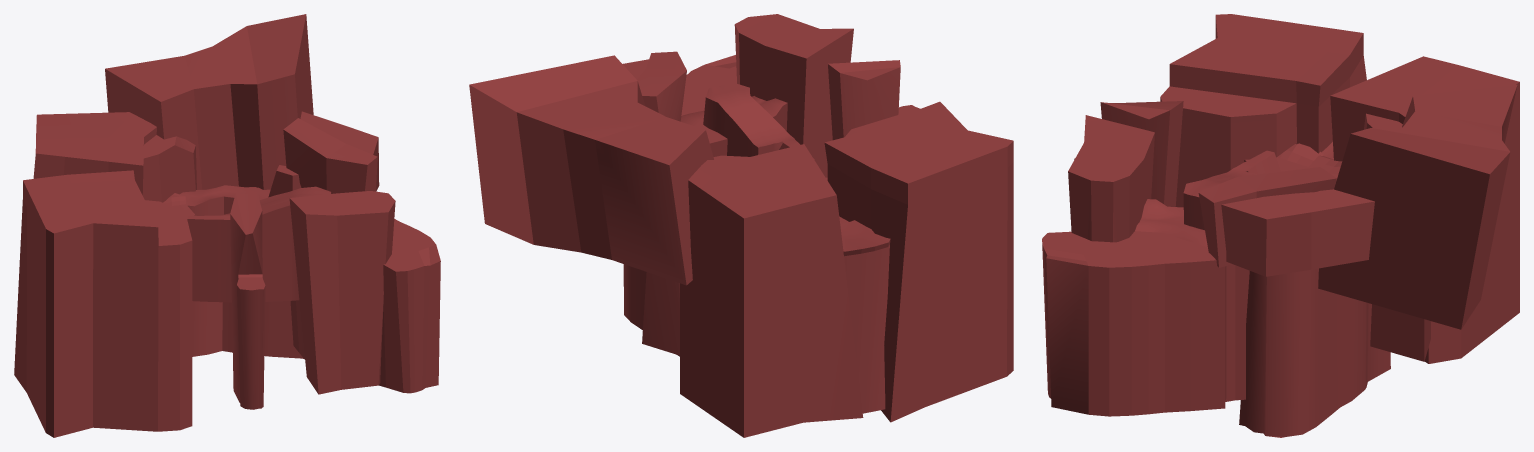
File: Zone3Final 2.FBX
3 views of the same model, side by side, from view 1: azimuth 30°, elevation 25°; view 2: azimuth 150°, elevation 25°; view 3: azimuth 270°, elevation 25° (orthographic). The views are drawn at different scales.
Visible parts, largest first — view 1: New_Game_Object__4_, New_Game_Object_4, New_Game_Object_7, New_Game_Object_2, Cube, New_Game_Object__3__1, New_Game_Object__3_, New_Game_Object_3, New_Game_Object_5, New_Game_Object__5_, New_Game_Object, New_Game_Object_6 (+1 smaller); view 2: New_Game_Object__3__1, New_Game_Object__4_, New_Game_Object_4, New_Game_Object_7, Box001, New_Game_Object__3_, Cube, New_Game_Object__5_, New_Game_Object_5, New_Game_Object_2, New_Game_Object_1, New_Game_Object_3; view 3: New_Game_Object_2, New_Game_Object_4, New_Game_Object__4_, New_Game_Object_3, New_Game_Object__3__1, New_Game_Object, New_Game_Object_7, New_Game_Object_1, New_Game_Object_5, New_Game_Object__3_, New_Game_Object__5_, Cube (+1 smaller).
Boxes of the visible parts, <box> form: New_Game_Object__4_: <box>14,170,192,437</box>; New_Game_Object_4: <box>105,14,313,189</box>; New_Game_Object_7: <box>289,191,395,394</box>; New_Game_Object_2: <box>379,219,440,393</box>; Cube: <box>187,186,331,302</box>; New_Game_Object__3__1: <box>33,112,156,194</box>; New_Game_Object__3_: <box>230,193,265,409</box>; New_Game_Object_3: <box>180,185,303,358</box>; New_Game_Object_5: <box>283,118,377,193</box>; New_Game_Object__5_: <box>142,135,196,202</box>; New_Game_Object: <box>300,111,379,191</box>; New_Game_Object_6: <box>268,165,301,197</box>; New_Game_Object__3__1: <box>680,144,863,437</box>; New_Game_Object__4_: <box>824,101,1013,422</box>; New_Game_Object_4: <box>469,55,713,285</box>; New_Game_Object_7: <box>734,14,853,177</box>; Box001: <box>839,216,890,413</box>; New_Game_Object__3_: <box>828,60,920,140</box>; Cube: <box>703,82,814,160</box>; New_Game_Object__5_: <box>642,155,748,355</box>; New_Game_Object_5: <box>636,51,686,121</box>; New_Game_Object_2: <box>681,55,736,115</box>; New_Game_Object_1: <box>680,96,787,156</box>; New_Game_Object_3: <box>623,264,679,356</box>; New_Game_Object_2: <box>1042,231,1226,416</box>; New_Game_Object_4: <box>1318,85,1517,329</box>; New_Game_Object__4_: <box>1160,14,1366,207</box>; New_Game_Object_3: <box>1239,268,1390,437</box>; New_Game_Object__3__1: <box>1330,56,1519,363</box>; New_Game_Object: <box>1221,189,1374,276</box>; New_Game_Object_7: <box>1068,115,1154,242</box>; New_Game_Object_1: <box>1135,199,1249,401</box>; New_Game_Object_5: <box>1198,167,1336,267</box>; New_Game_Object__3_: <box>1074,101,1183,206</box>; New_Game_Object__5_: <box>1364,113,1430,361</box>; Cube: <box>1183,150,1280,230</box>.
Bounding box in the file's own units: 17138 × 11130 × 16214.
